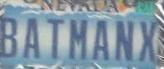placa de veiculo: (2, 3, 157, 69)
